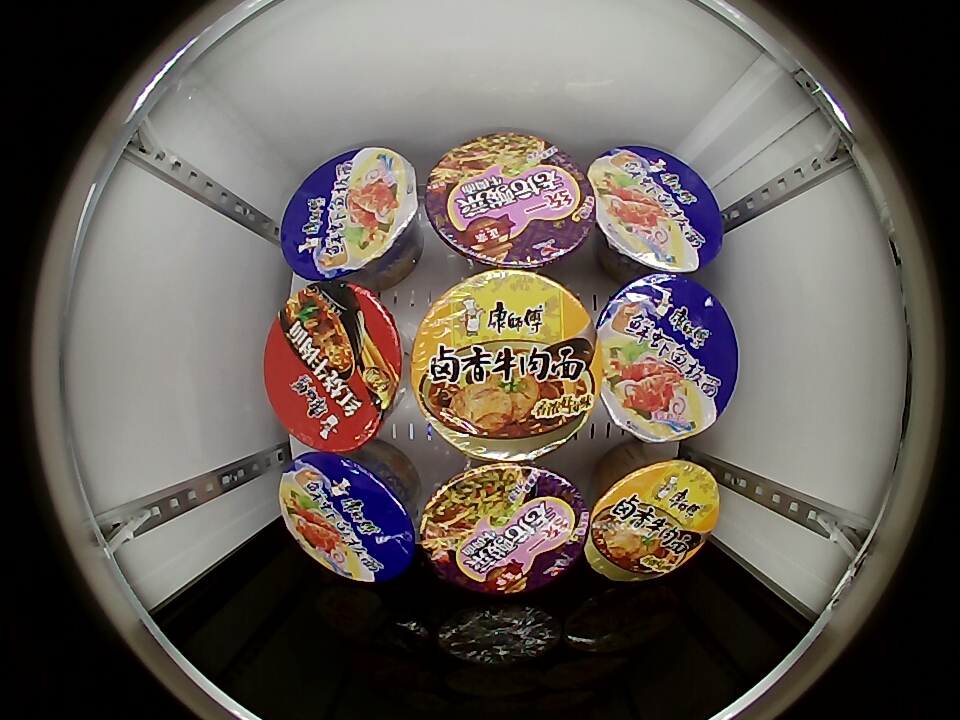hongshaoniurou: (265, 280, 405, 453)
laotansuancai: (423, 131, 596, 269), (417, 461, 590, 596)
luxiangniurou: (410, 269, 598, 461), (586, 459, 720, 581)
xianxiayuban: (594, 273, 738, 440), (279, 146, 420, 282), (279, 451, 417, 583), (588, 145, 724, 274)
